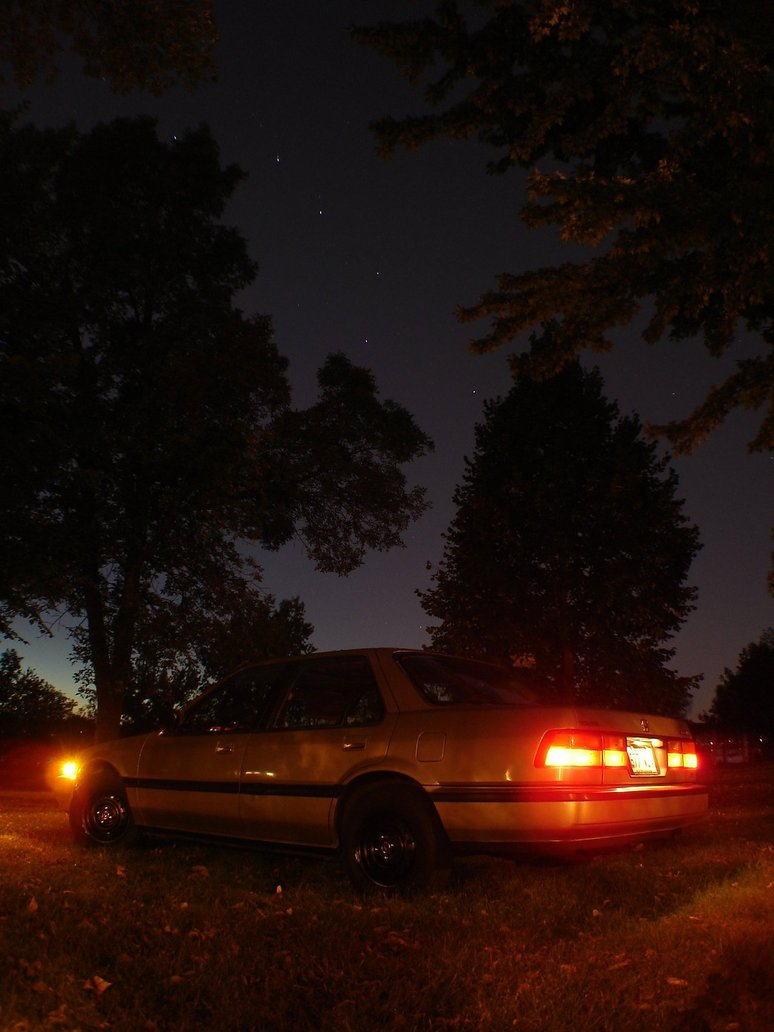car: (43, 638, 724, 896)
